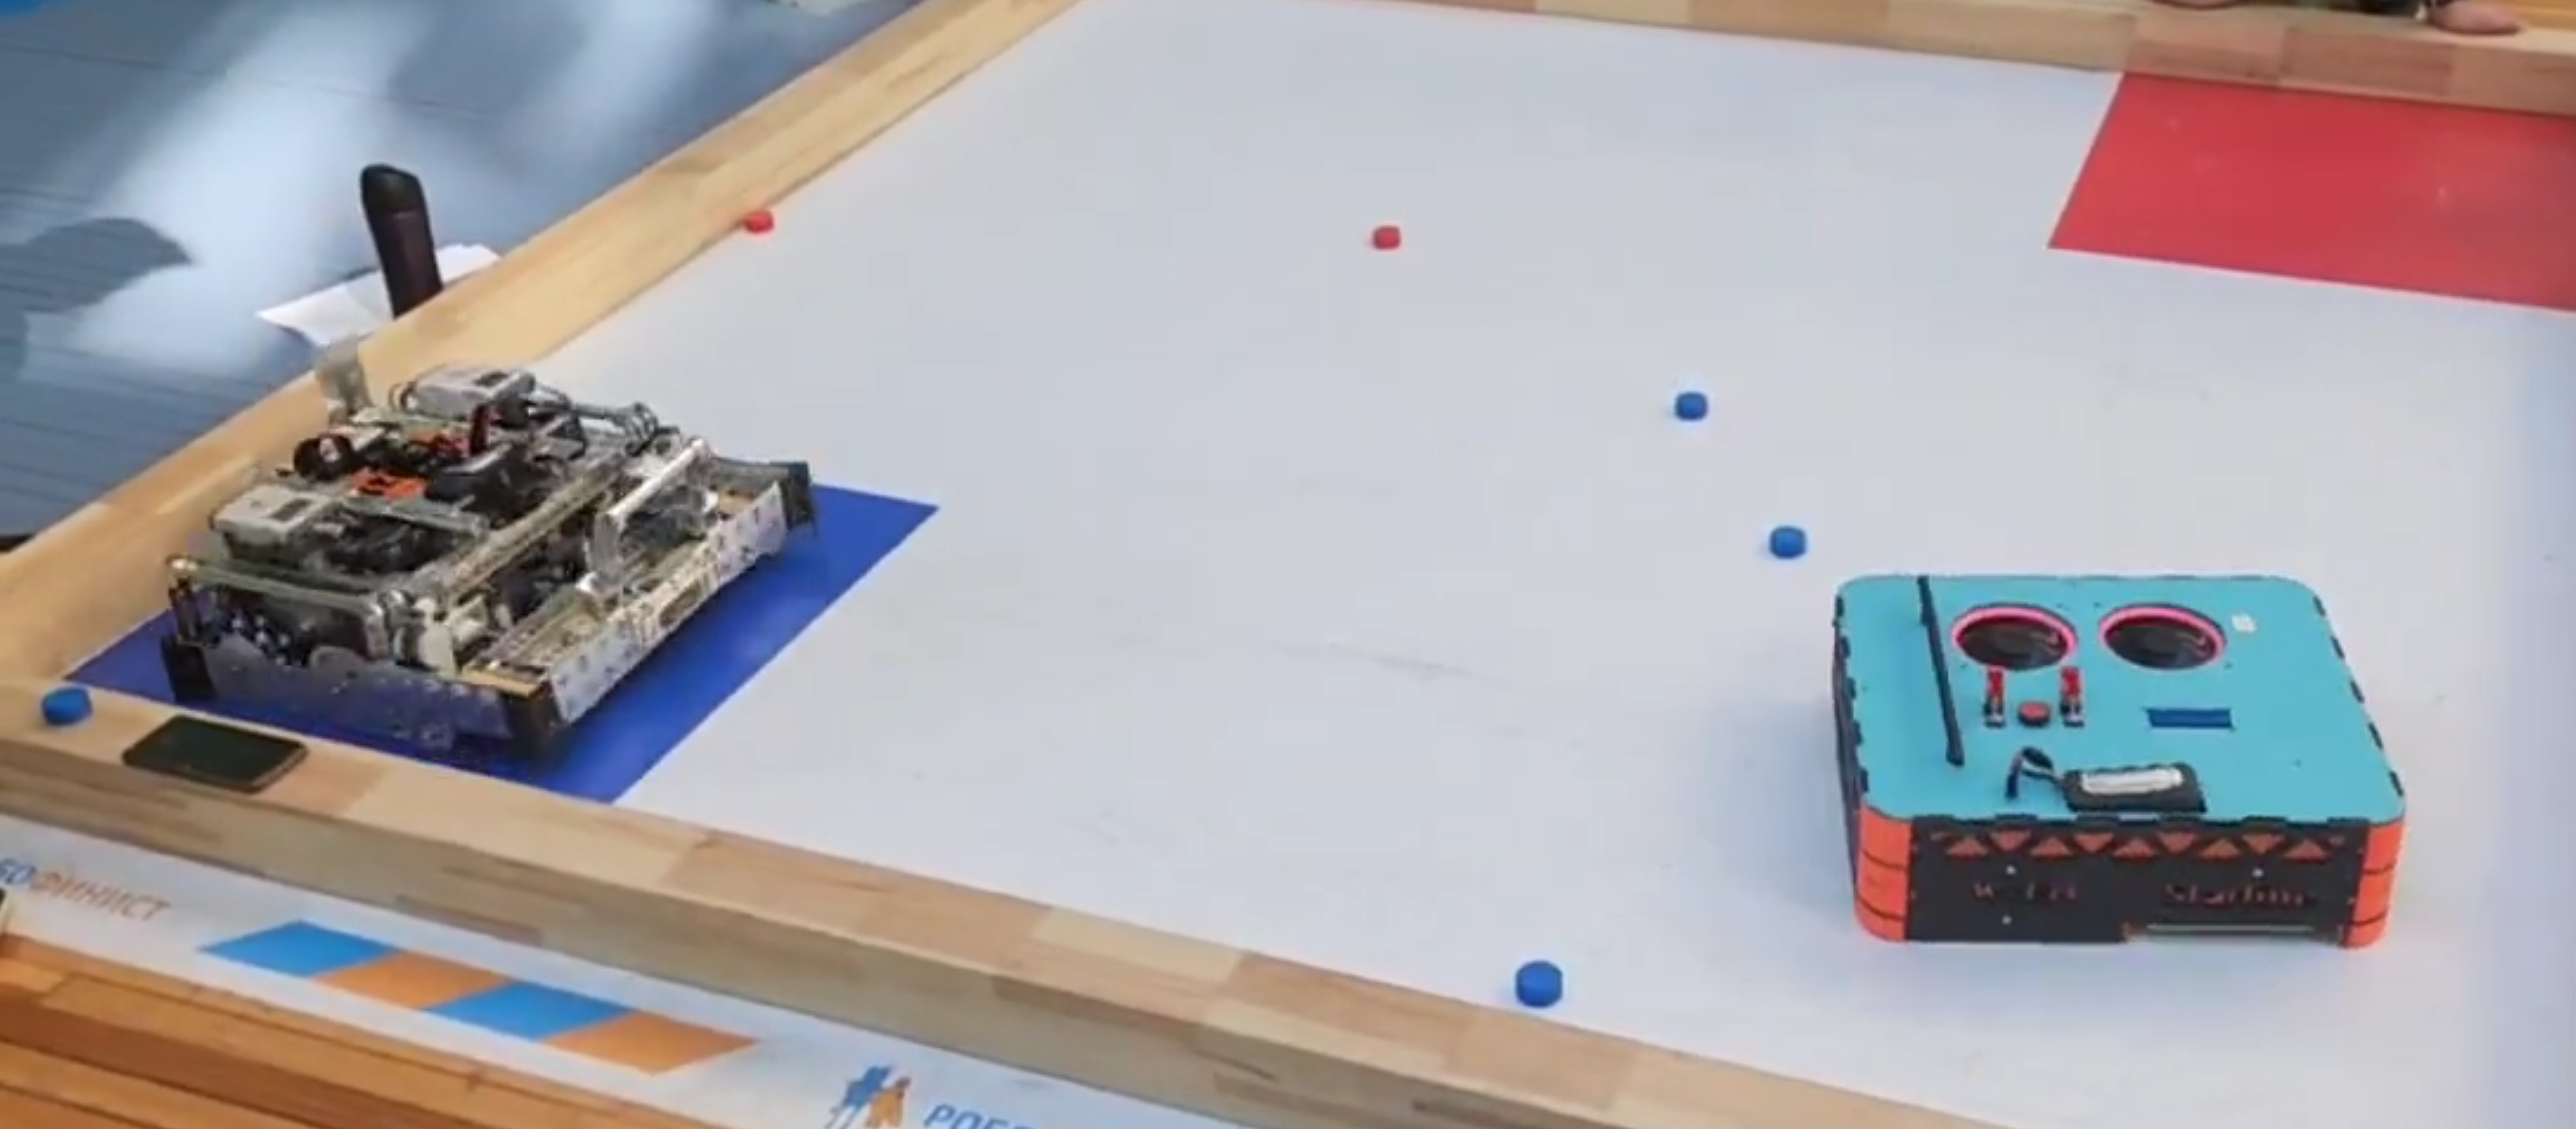blue_puck: (1515, 958, 1562, 1008), (1764, 523, 1804, 560), (1674, 387, 1710, 423)
red_base: (2042, 69, 2576, 305)
red_puck: (744, 207, 779, 233), (1372, 223, 1403, 248)
